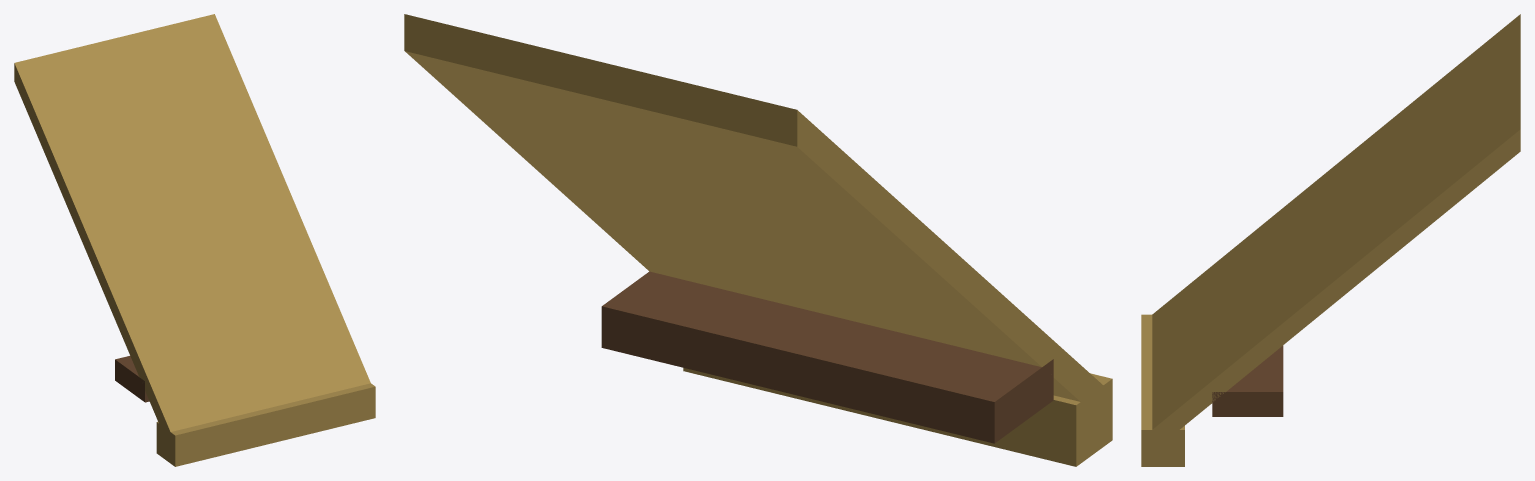
The model's file is RoofEave.fbx.
3 renders of one model, left to right at view 1: azimuth 30°, elevation 25°; view 2: azimuth 150°, elevation 25°; view 3: azimuth 270°, elevation 25°, orthographic. The views are drawn at different scales.
Parts seen in each view (by area): view 1: Kit_RoofEave; view 2: Kit_RoofEave; view 3: Kit_RoofEave.
Boxes of the visible parts, bbox=[...] form: Kit_RoofEave: bbox=[14, 14, 375, 466]; Kit_RoofEave: bbox=[404, 14, 1112, 466]; Kit_RoofEave: bbox=[1141, 14, 1520, 466].
Size of the model in its own units: 1 by 1.37 by 1.39.
